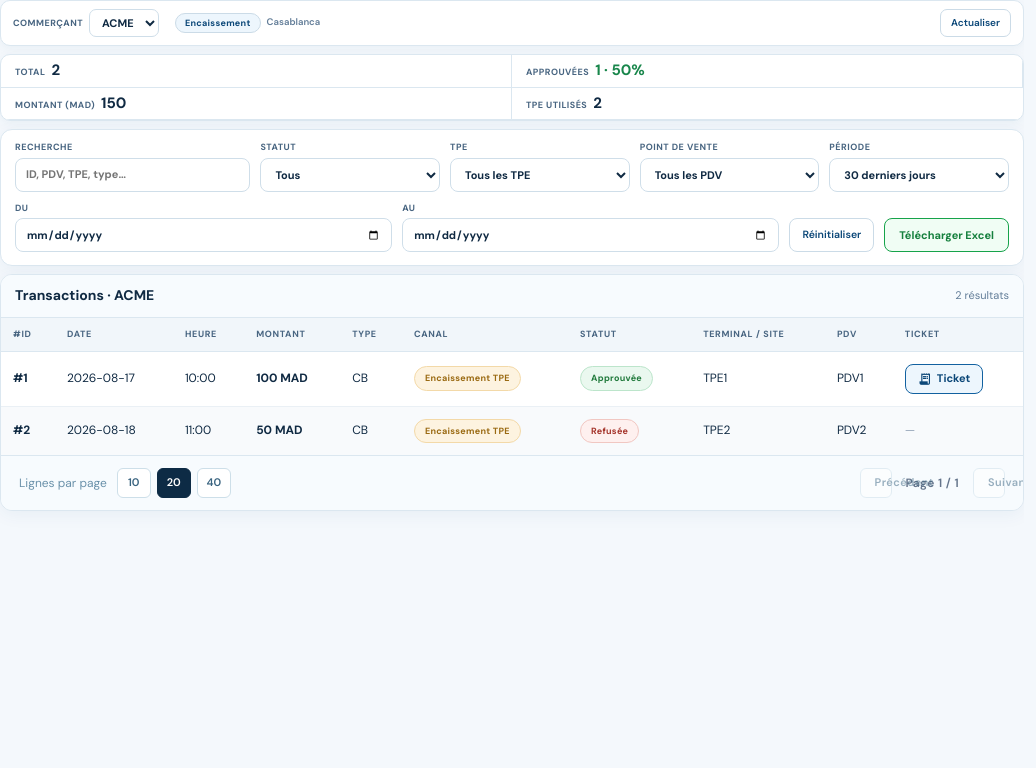
Test: SupervisorTransactionsPage › affiche une erreur si le telechargement du ticket echoue
The width and height of the screenshot is (1036, 768).
Expected: the text "#1" is shown, left=13, top=370, right=28, bottom=386
Click the button "Ticket" at x=944, y=379, box left=905, top=364, right=983, bottom=394
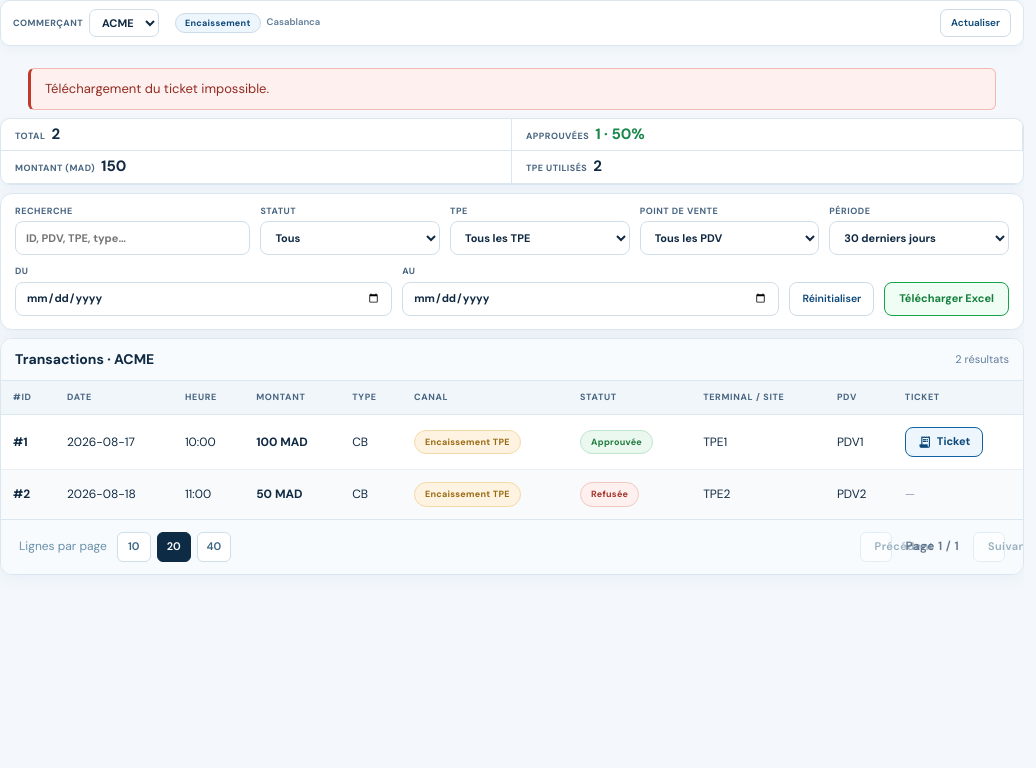
Result: the text "Téléchargement du ticket impossible." is shown at left=28, top=68, right=996, bottom=110
